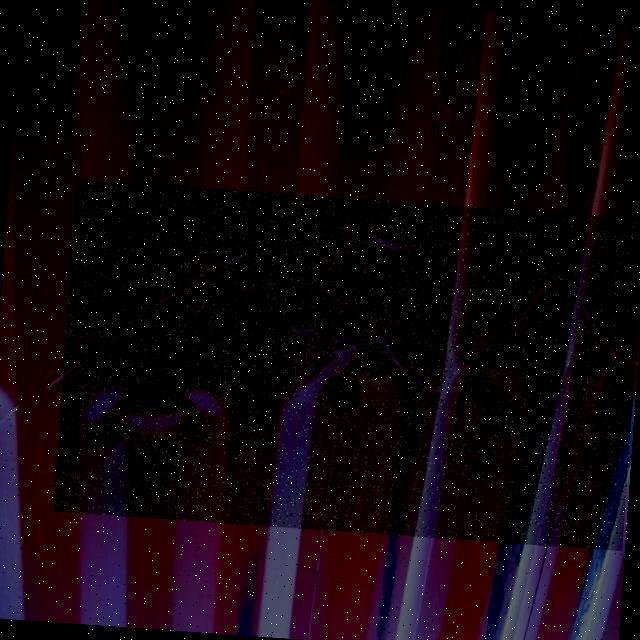Dent: (53, 178, 640, 550)
